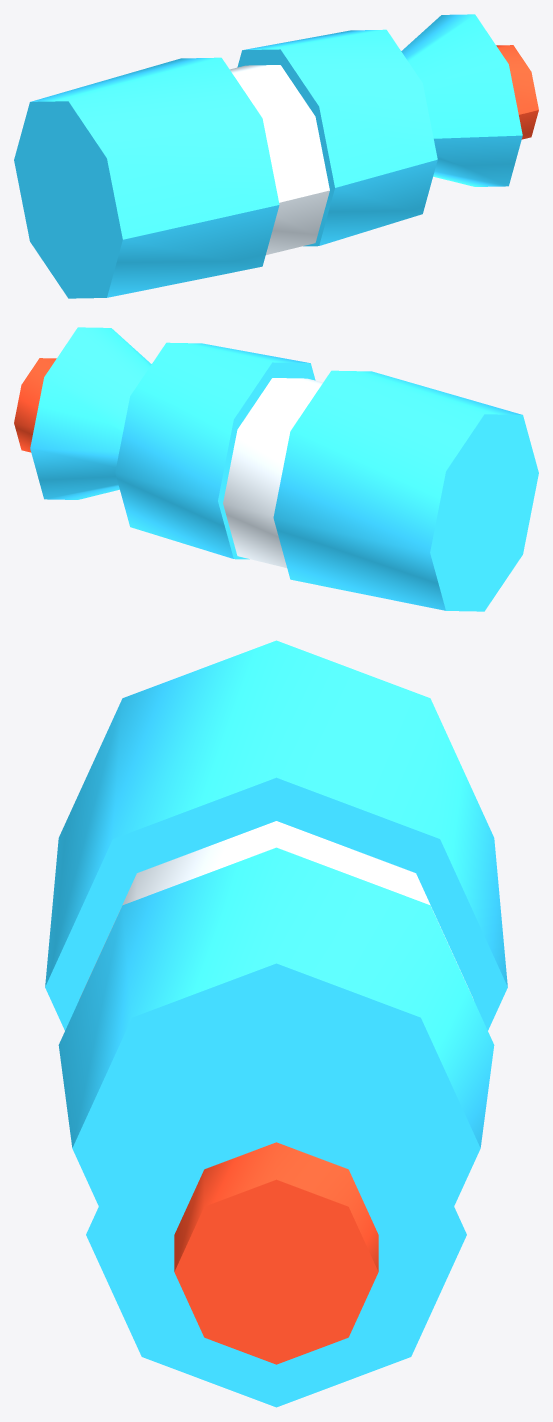
File: trash-bottle-0.glb
3 views of the same model, one above another, from view 1: azimuth 30°, elevation 25°; view 2: azimuth 150°, elevation 25°; view 3: azimuth 270°, elevation 25° (orthographic). The views are drawn at different scales.
Parts seen in each view (by area): view 1: trash-bottle-0; view 2: trash-bottle-0; view 3: trash-bottle-0.
Boxes of the visible parts, x1,y1,x2,y2 form: trash-bottle-0: [14, 14, 538, 298]; trash-bottle-0: [14, 327, 538, 611]; trash-bottle-0: [45, 640, 507, 1407].
Size of the model in its own units: 0.755 by 0.34 by 0.34.
